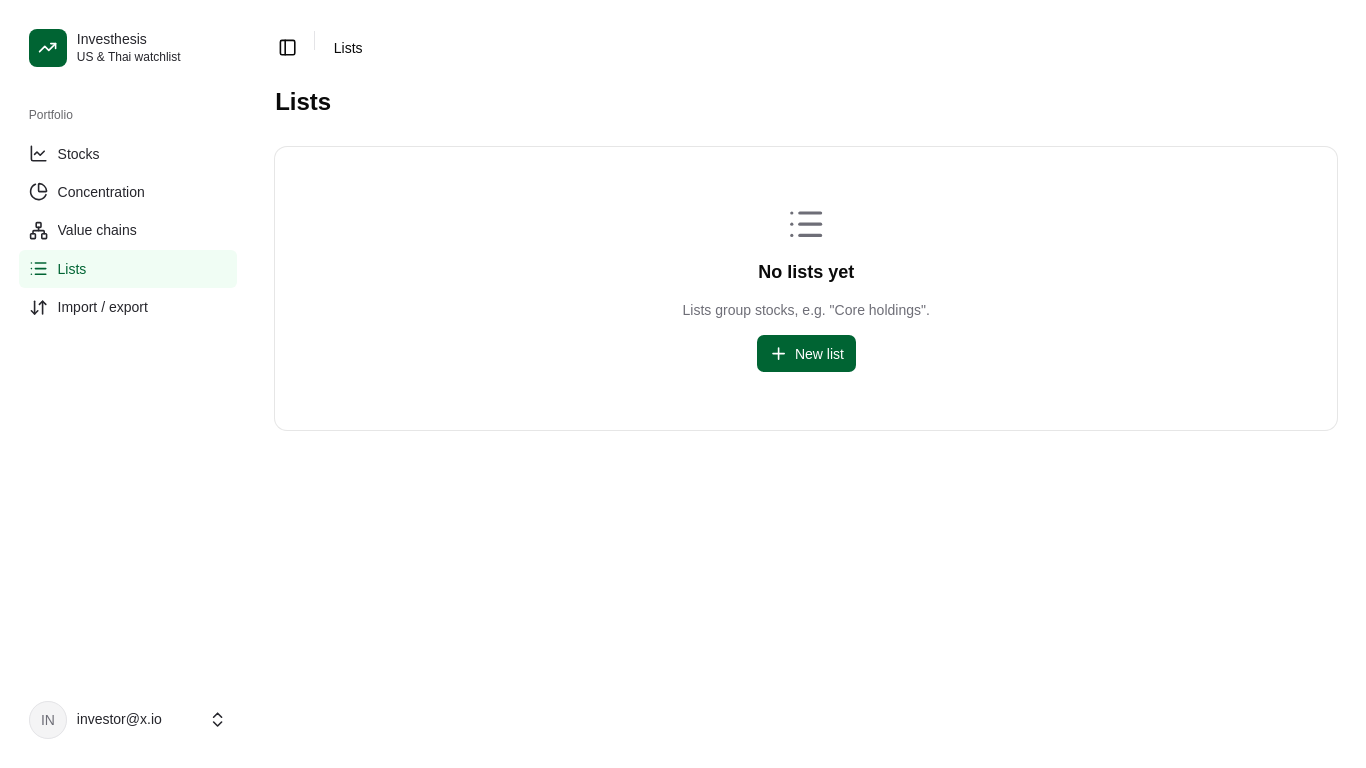
Test: account menu › TC-U-038: Sign out ends the session, replaces with sign-in, and Back cannot re-enter
Click the button with aria-label "Account menu". click: (128, 720)
box: [19, 691, 237, 749]
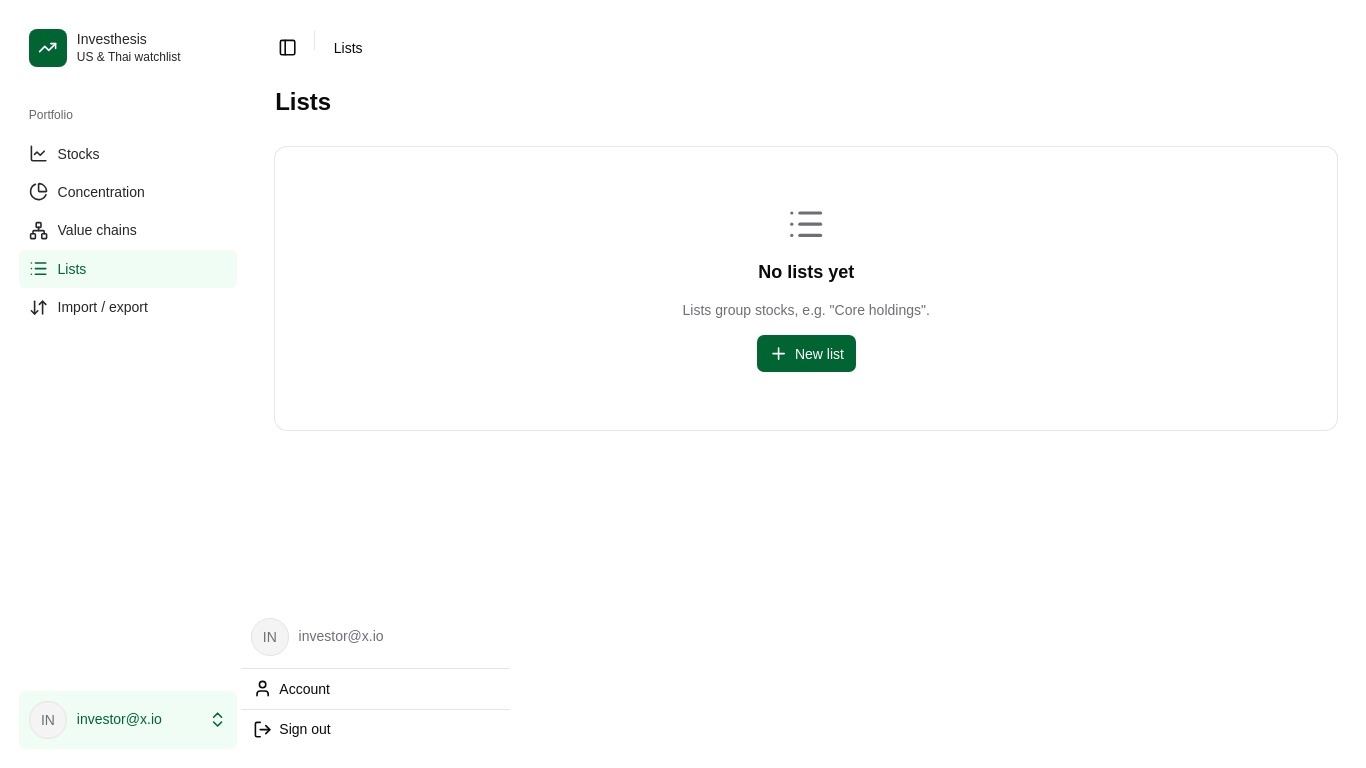
Click the menu item "Sign out". click: (292, 729)
box: [253, 720, 331, 739]
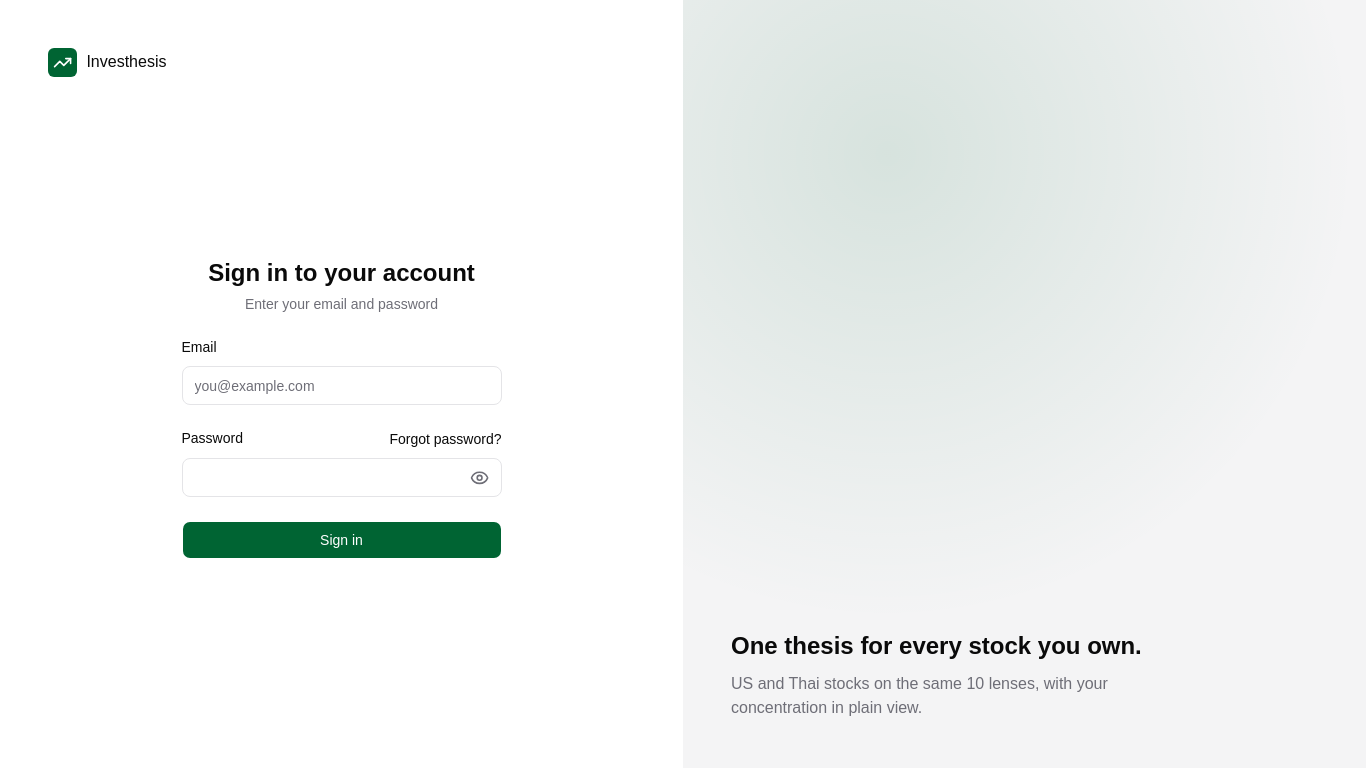
Now the heading "Sign in to your account" is shown, box [208, 257, 475, 289]
